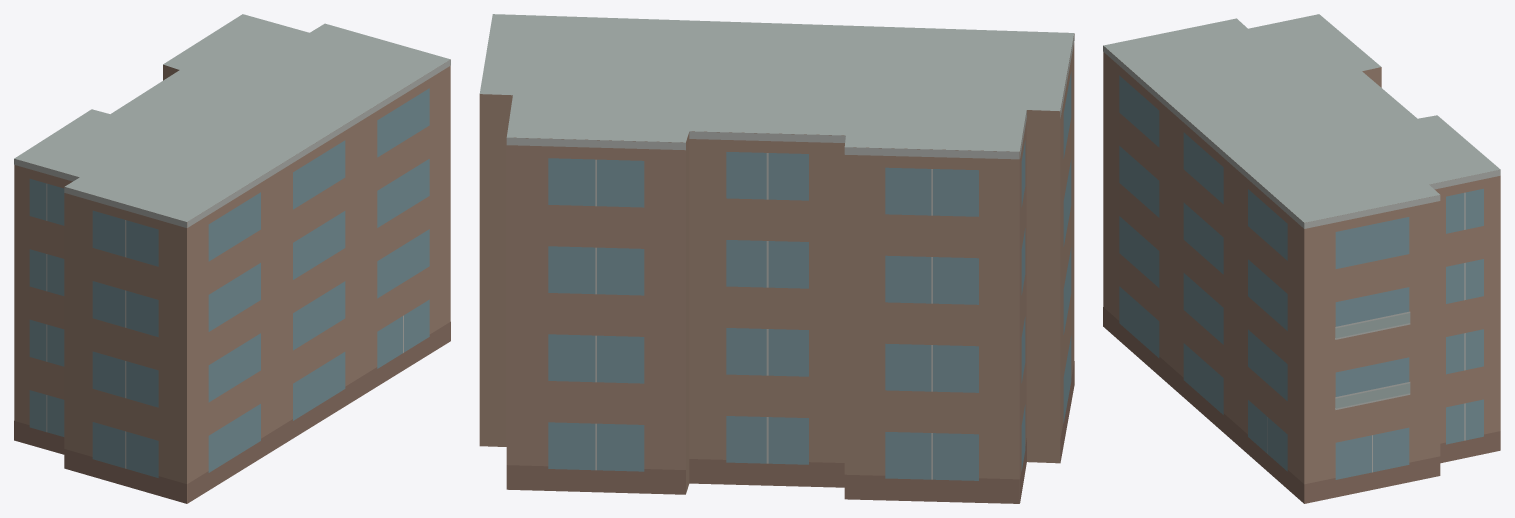
Rendered from survey-upis-32913520.glb.
3 renders of one model, left to right at view 1: azimuth 30°, elevation 25°; view 2: azimuth 150°, elevation 25°; view 3: azimuth 270°, elevation 25°, orthographic. The views are drawn at different scales.
Parts seen in each view (by area): view 1: survey-upis-32913520.tmp; view 2: survey-upis-32913520.tmp; view 3: survey-upis-32913520.tmp.
Part boxes in pixels (x1,y1,x2,y2): survey-upis-32913520.tmp: [14, 14, 450, 503]; survey-upis-32913520.tmp: [479, 14, 1074, 503]; survey-upis-32913520.tmp: [1103, 14, 1500, 503].
Size of the model in its own units: 17.86 by 11.2 by 14.37.
